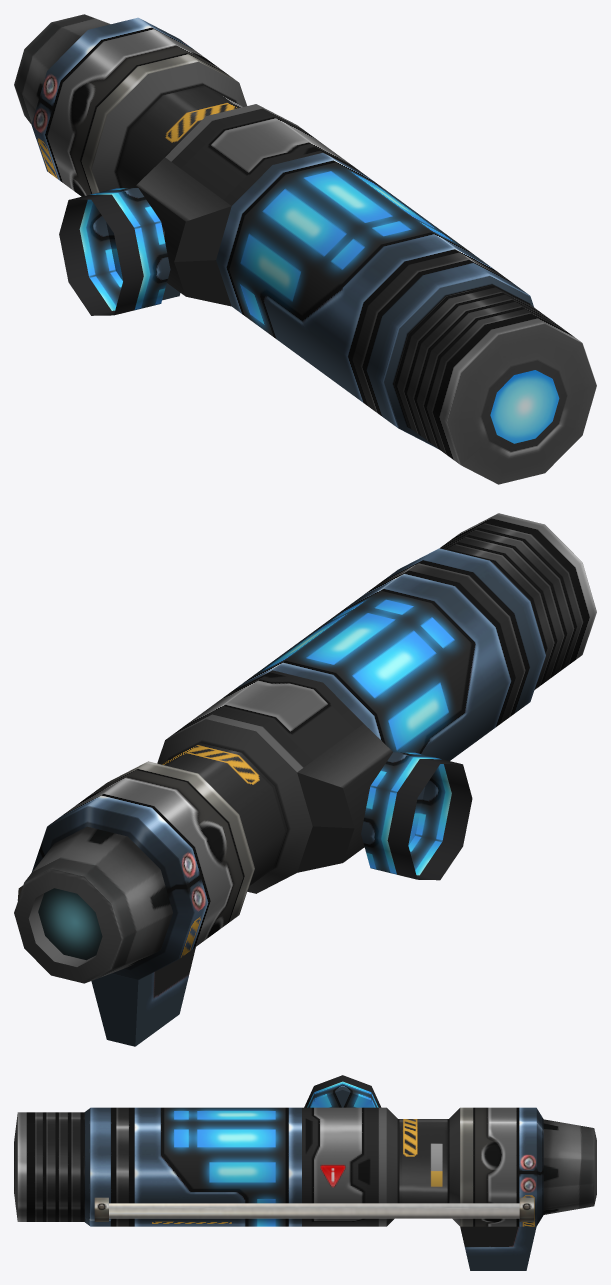
Rendered from drone04_gun_L.FBX.
3 views of the same model, one above another, from view 1: azimuth 30°, elevation 25°; view 2: azimuth 150°, elevation 25°; view 3: azimuth 270°, elevation 25° (orthographic). The views are drawn at different scales.
Parts seen in each view (by area): view 1: drone04_gun_L; view 2: drone04_gun_L; view 3: drone04_gun_L.
Boxes of the visible parts, x1,y1,x2,y2 form: drone04_gun_L: [14, 14, 596, 484]; drone04_gun_L: [14, 513, 596, 1046]; drone04_gun_L: [14, 1075, 596, 1270].
Bounding box in the file's own units: 0.4717 × 0.3938 × 1.38.
